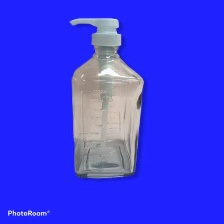bottle: (63, 12, 143, 182)
